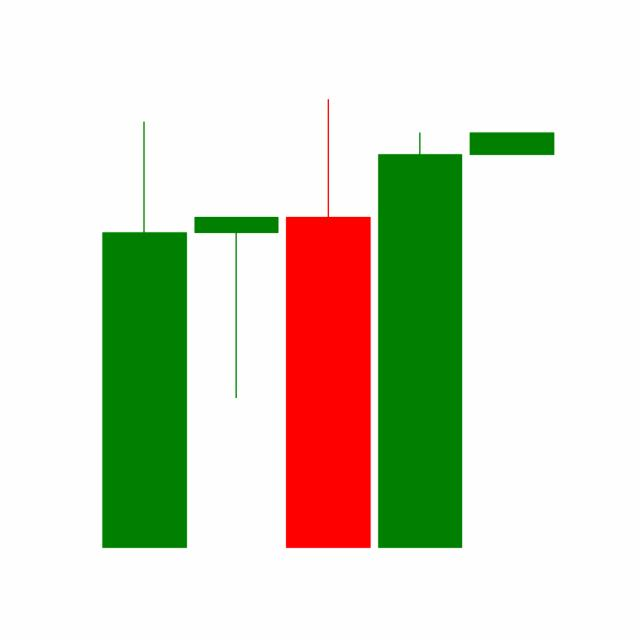Marubozu: (373, 127, 467, 551)
